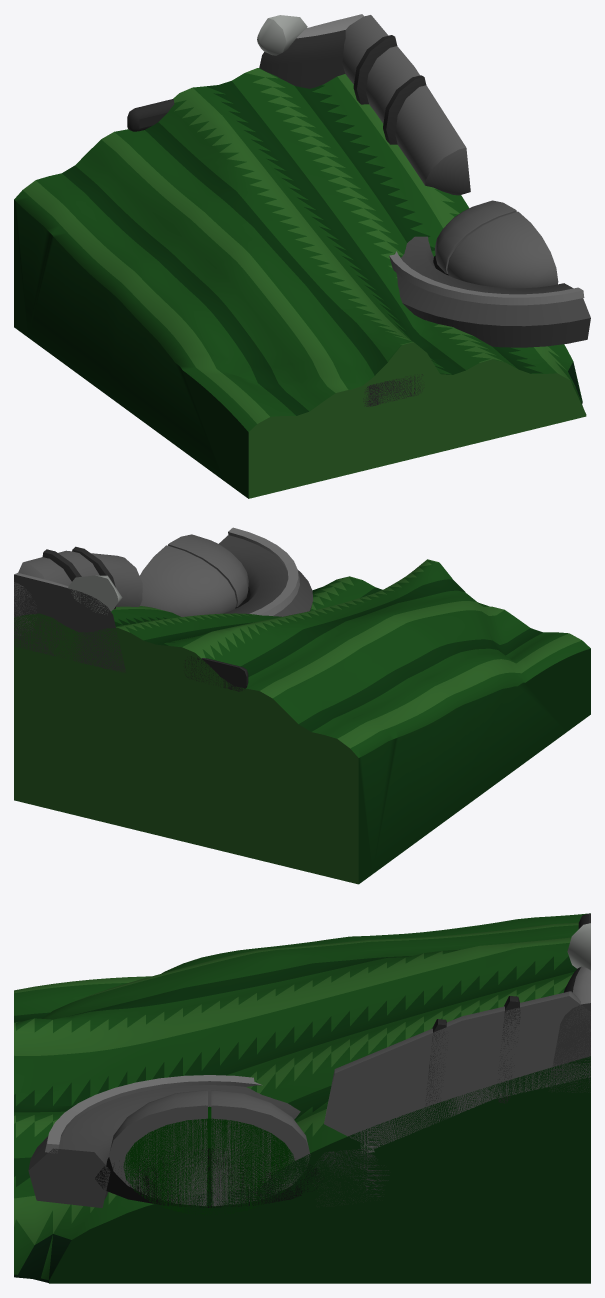
File: green_shell_eye_241.glb
3 views of the same model, one above another, from view 1: azimuth 30°, elevation 25°; view 2: azimuth 150°, elevation 25°; view 3: azimuth 270°, elevation 25° (orthographic). The views are drawn at different scales.
Visible parts, largest first — view 1: carapace, eye_ring, stalk, lid-1, housing, eye_ring_hi, lid1, strut6, stalk_ring-4, lobe_lamp_frame-14, stalk_ring-8, lamp_frame-14; view 2: carapace, housing, lid1, eye_ring, stalk, lid-1, eye_ring_hi, strut6, lamp_frame-14; view 3: carapace, stalk, eye, eye_ring, lid-1, lid1, socket, housing, eye_ring_hi, strut6, stalk_ring-4.
Part boxes in pixels (left/top/right/bottom): carapace: left=14, top=68, right=586, bottom=498; eye_ring: left=396, top=236, right=590, bottom=347; stalk: left=342, top=15, right=470, bottom=195; lid-1: left=447, top=211, right=558, bottom=288; housing: left=259, top=14, right=363, bottom=88; eye_ring_hi: left=389, top=251, right=584, bottom=305; lid1: left=435, top=200, right=516, bottom=273; strut6: left=257, top=15, right=307, bottom=55; stalk_ring-4: left=353, top=35, right=397, bottom=104; lobe_lamp_frame-14: left=363, top=374, right=424, bottom=406; stalk_ring-8: left=383, top=75, right=426, bottom=144; lamp_frame-14: left=127, top=99, right=174, bottom=131; carapace: left=14, top=559, right=590, bottom=884; housing: left=14, top=573, right=125, bottom=672; lid1: left=139, top=545, right=236, bottom=616; eye_ring: left=219, top=535, right=313, bottom=616; stalk: left=14, top=550, right=142, bottom=635; lid-1: left=168, top=534, right=248, bottom=606; eye_ring_hi: left=228, top=527, right=299, bottom=615; strut6: left=68, top=575, right=122, bottom=614; lamp_frame-14: left=185, top=656, right=248, bottom=691; carapace: left=14, top=913, right=590, bottom=1283; stalk: left=324, top=991, right=590, bottom=1149; eye: left=123, top=1106, right=295, bottom=1215; eye_ring: left=28, top=1085, right=389, bottom=1207; lid-1: left=109, top=1090, right=207, bottom=1206; lid1: left=211, top=1090, right=310, bottom=1206; socket: left=95, top=1148, right=323, bottom=1207; housing: left=550, top=966, right=590, bottom=1092; eye_ring_hi: left=45, top=1075, right=374, bottom=1153; strut6: left=567, top=923, right=590, bottom=970; stalk_ring-4: left=498, top=996, right=520, bottom=1103.
Size of the model in its own units: 24 by 16.28 by 28.
